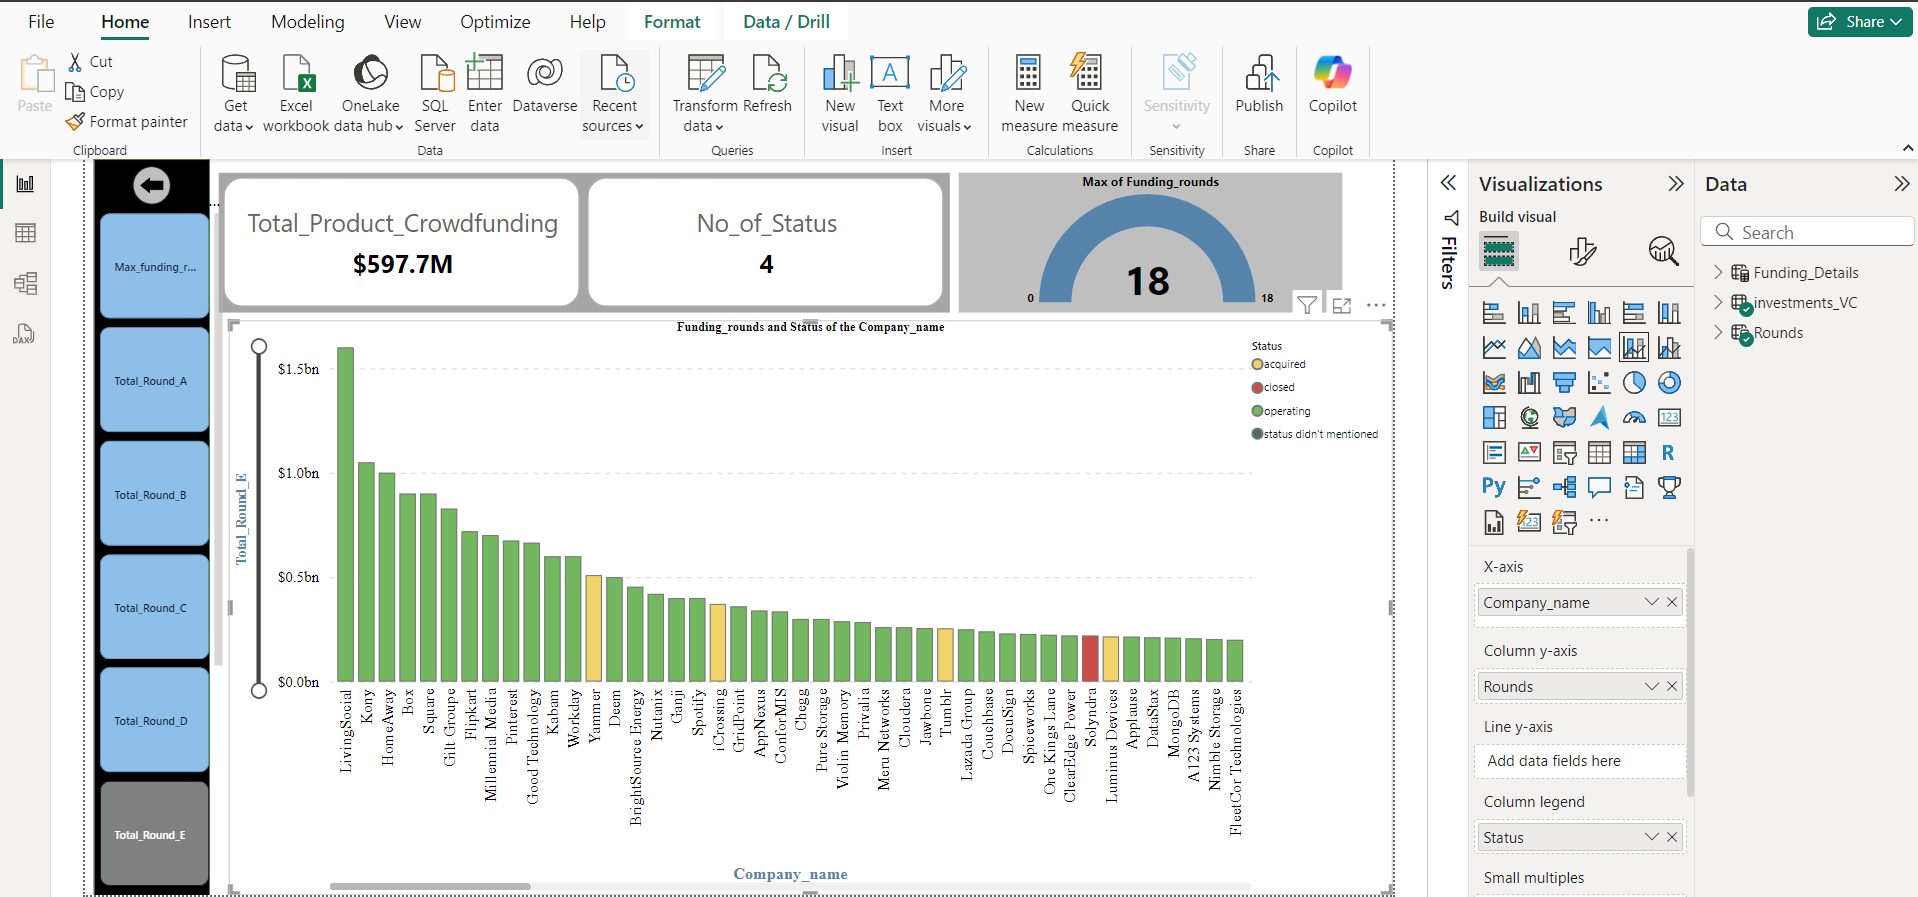

The page's visual inventory and layout, read from the dashboard file:
{"tool":"powerbi","page":{"name":"Page 2","canvas":[1280,720],"ordinal":1},"visuals":[{"type":"shape","box":[9.2,0,113.7,1080.4],"z":0},{"type":"cardVisual","fields":{"Data":["investments_VC.Total_Product_Crowdfunding","investments_VC.Distinct"]},"box":[130.8,13.5,715.4,137],"z":1000},{"type":"kpi","box":[1287.6,34.9,533.8,394.4],"z":2000},{"type":"gauge","title":"Max of Funding_rounds","fields":{"Y":["Max(investments_VC.Funding_rounds)"],"MaxValue":["investments_VC.Max_funding_rounds"]},"box":[854.8,13.5,375.4,137],"z":3000},{"type":"lineStackedColumnComboChart","title":"Funding_rounds and Status of the Company_name","fields":{"Y":["investments_VC.Max_funding_rounds"],"Category":["investments_VC.Company_name"],"Series":["investments_VC.Status"]},"box":[140.8,157.1,1138.8,563.3],"z":4000},{"type":"advancedSlicerVisual","title":"Total Rounds with Companies","fields":{"Values":["Rounds.Rounds"]},"box":[10,35,130,685],"z":5000},{"type":"image","box":[41.6,0,47.7,51.4],"z":6000}]}

Visuals, with their boxes on the page's 1280x720 design canvas (x1, y1, x2, y2). These are canvas units, not pixel positions in the 1918x897 screenshot, which may show the page scaled, cropped or inside an application window:
shape: 9,0,123,1080
cardVisual - investments_VC.Total_Product_Crowdfunding x investments_VC.Distinct: 131,14,846,150
kpi: 1288,35,1821,429
"Max of Funding_rounds" gauge: 855,14,1230,150
"Funding_rounds and Status of the Company_name" lineStackedColumnComboChart: 141,157,1280,720
"Total Rounds with Companies" advancedSlicerVisual: 10,35,140,720
image: 42,0,89,51
